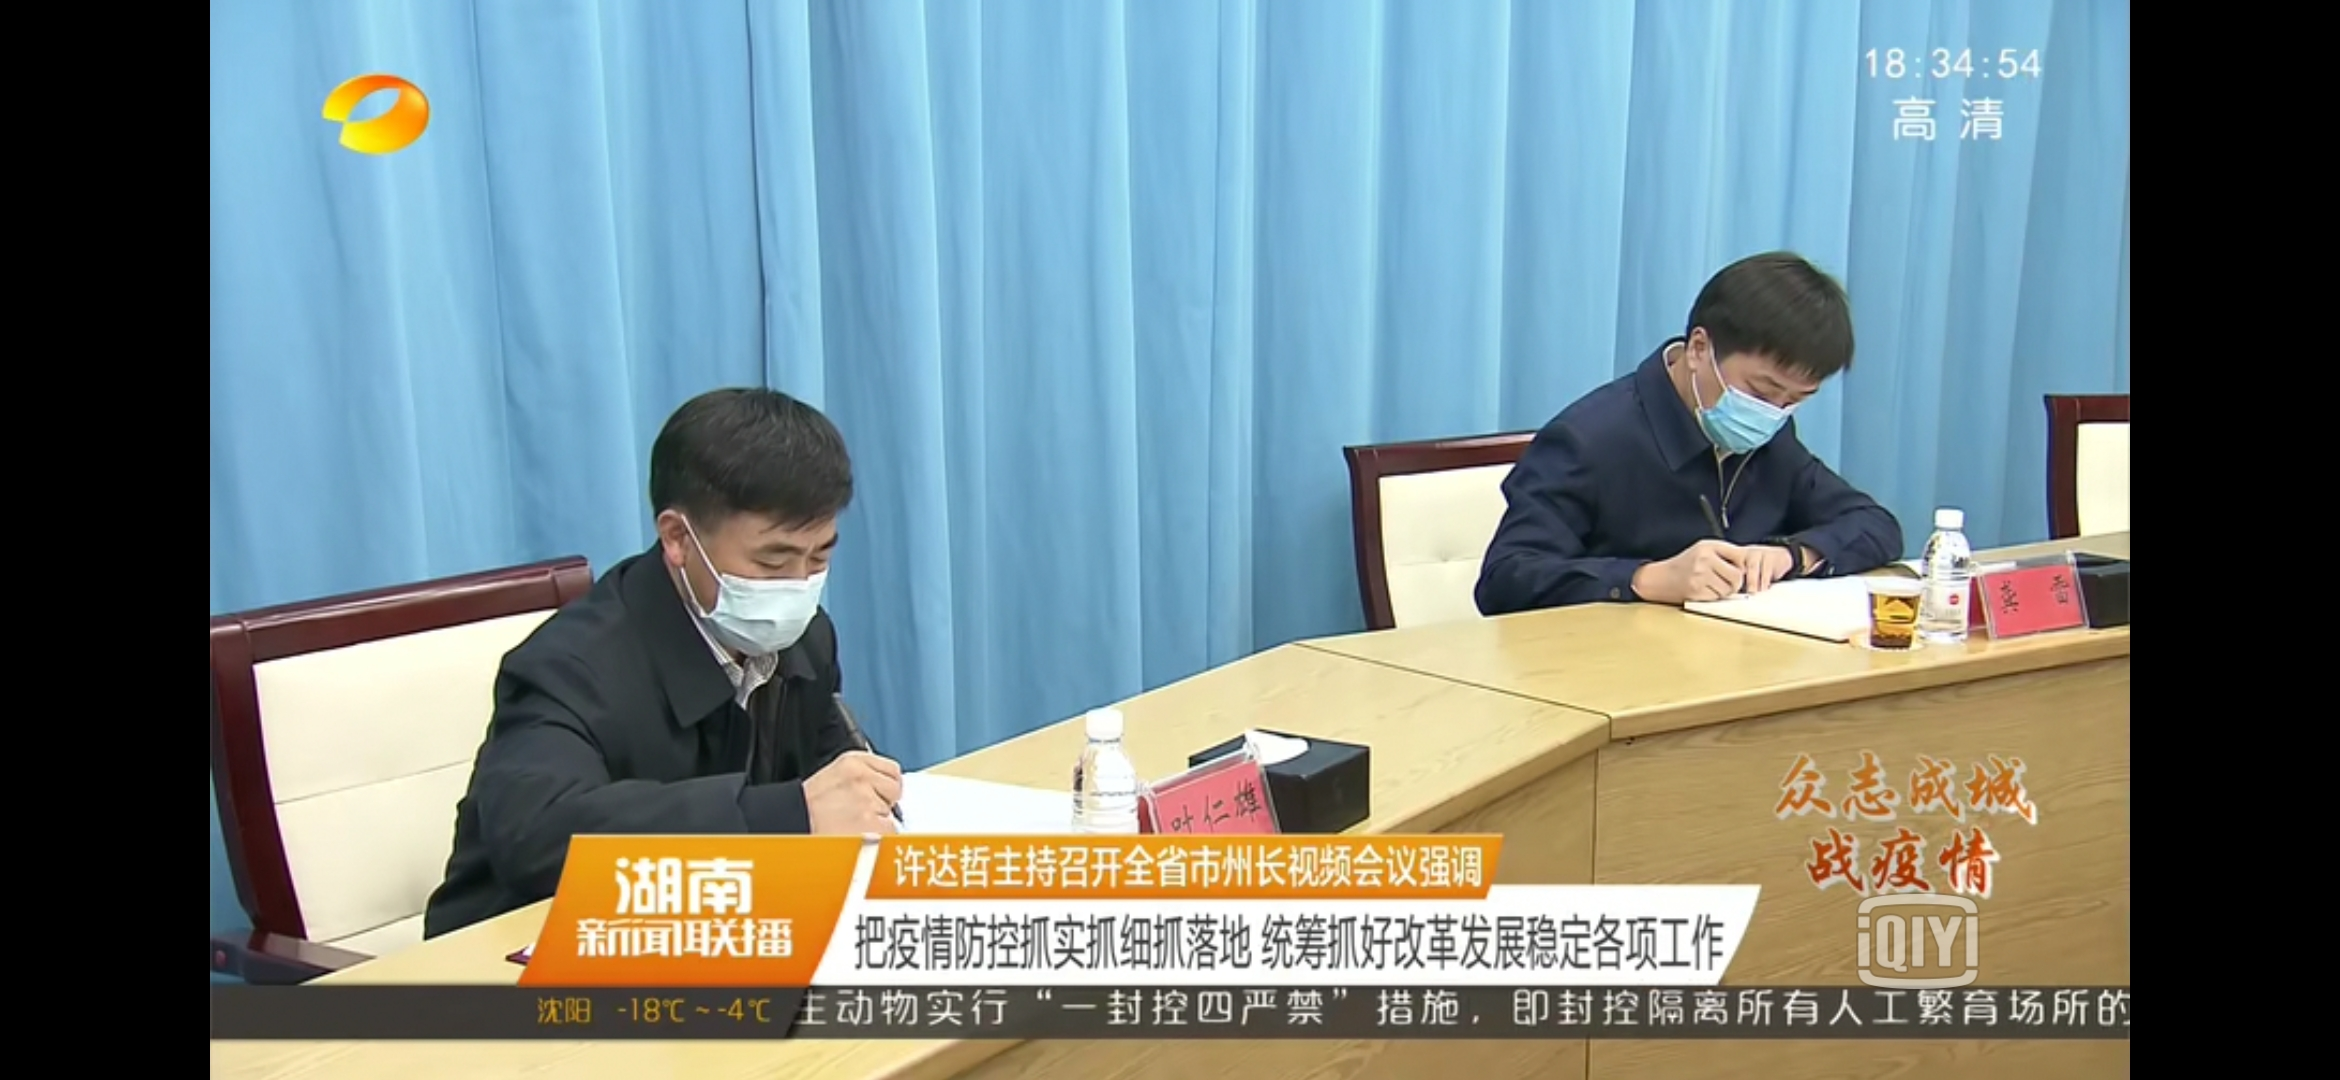correctlyWear: (657, 482, 843, 658), (1680, 324, 1822, 459)
